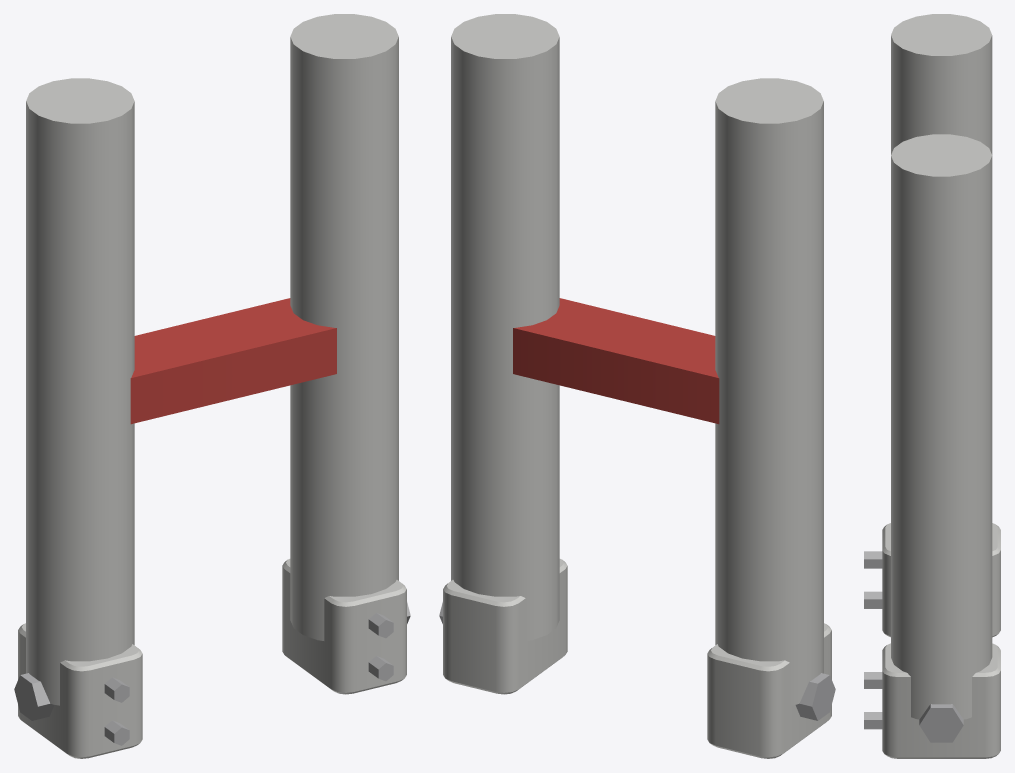
The model's file is scrambler_classic_brace_lower.glb.
The picture shows the model from 3 angles, left to right: view 1: azimuth 30°, elevation 25°; view 2: azimuth 150°, elevation 25°; view 3: azimuth 270°, elevation 25°; orthographic projection. The views are drawn at different scales.
Parts seen in each view (by area): view 1: lod0; view 2: lod0; view 3: lod0.
Boxes of the visible parts, x1,y1,x2,y2 form: lod0: (14, 14, 410, 758); lod0: (439, 14, 835, 758); lod0: (864, 14, 1000, 758).
Size of what is drawn, in the model's own units: 0.254 by 0.41 by 0.0865.
